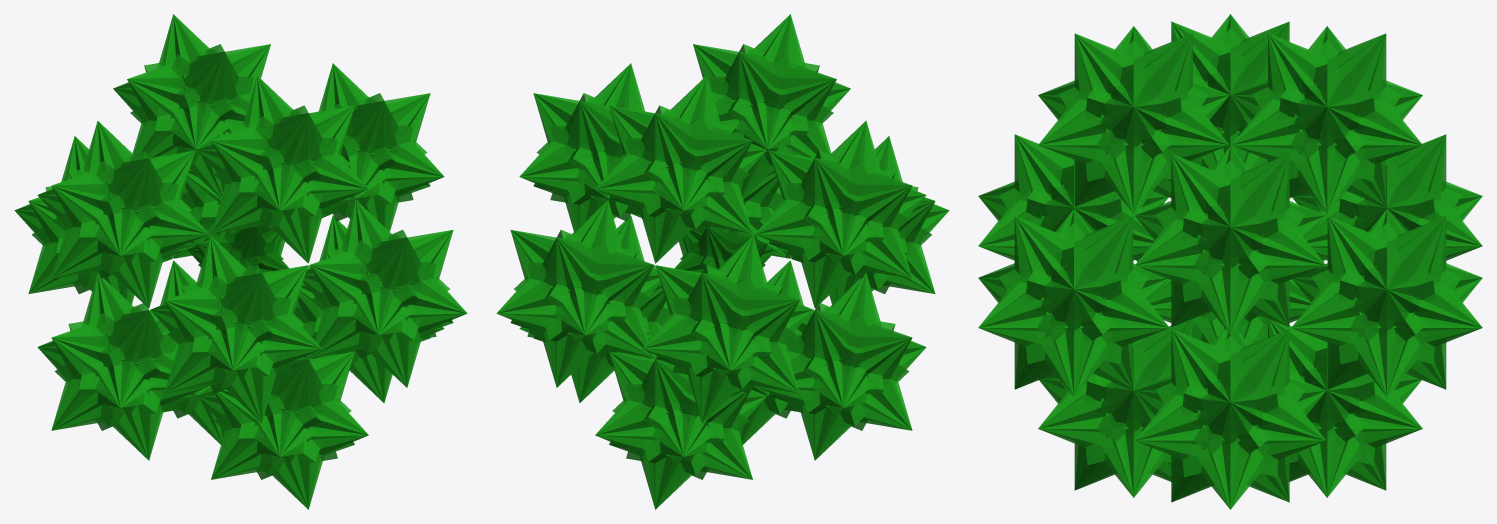
The model's file is fractalgreattriakisicosahedron1.glb.
3 renders of one model, left to right at view 1: azimuth 30°, elevation 25°; view 2: azimuth 150°, elevation 25°; view 3: azimuth 270°, elevation 25°, orthographic. The views are drawn at different scales.
Size of the model in its own units: 10.34 by 10.34 by 10.34.
